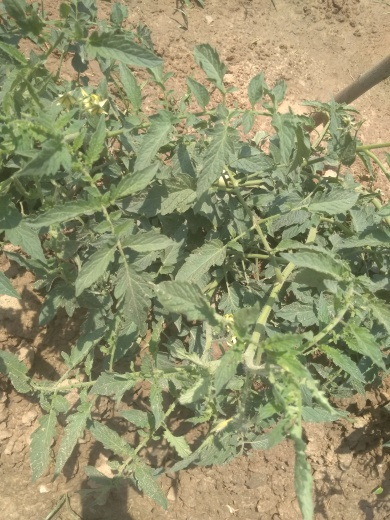tomato flower: (70, 81, 115, 119)
tomato plant: (16, 123, 376, 441)
